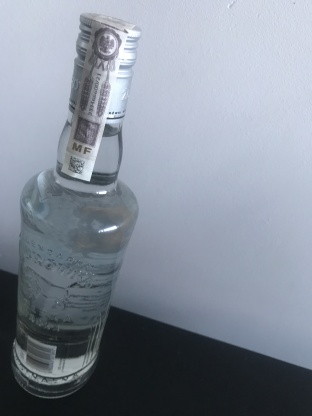nakretka: (66, 9, 143, 128)
